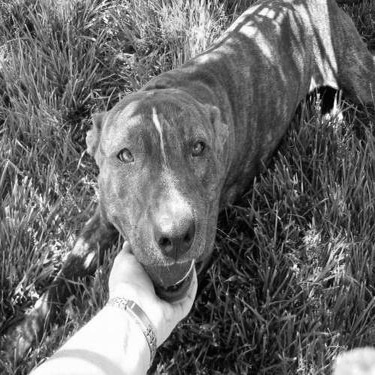dog: (8, 2, 370, 373)
